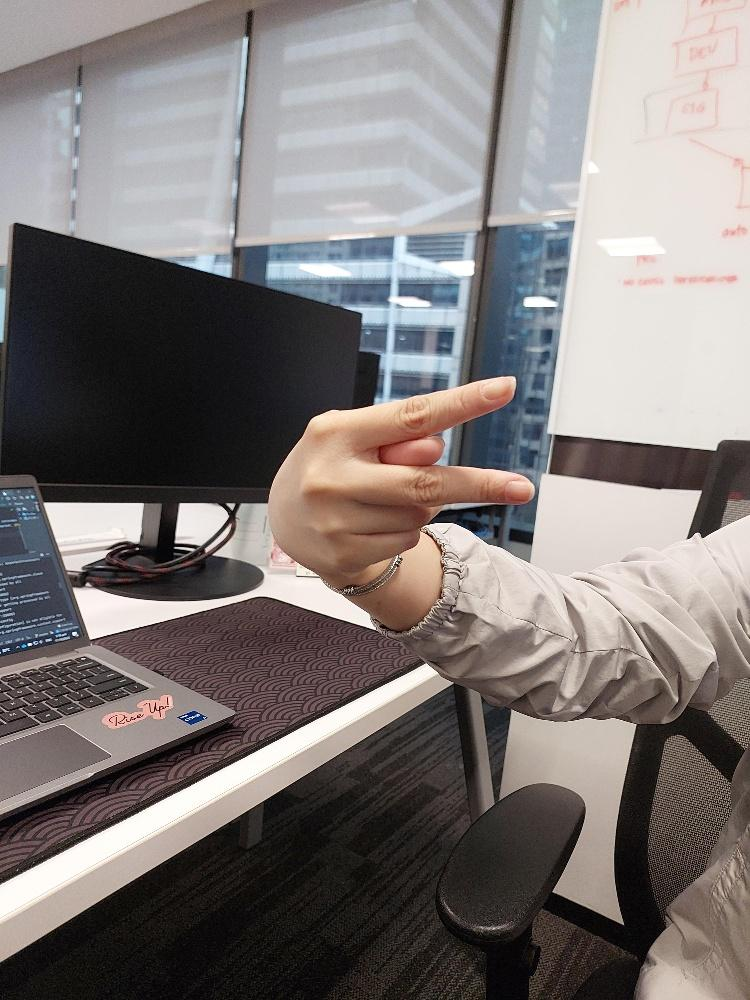k: (272, 373, 534, 580)
